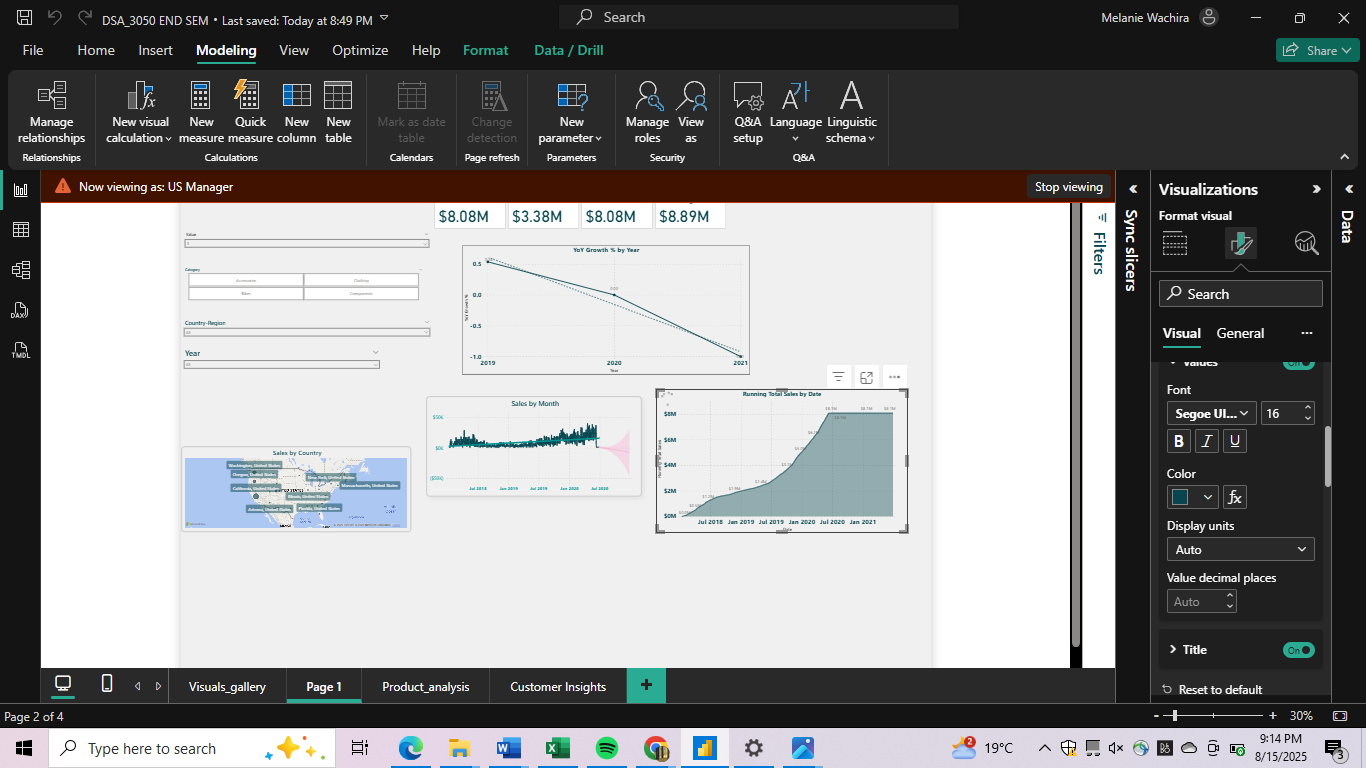

The page's visual inventory and layout, read from the dashboard file:
{"tool":"powerbi","page":{"name":"Sales_Overview","canvas":[2500,1700],"ordinal":1},"visuals":[{"type":"lineChart","title":"Sales by Month","fields":{"Y":["Sum(Sales_data.Sales Amount)"],"Category":["Date_data.Date"]},"box":[256,1184,800,512],"z":0},{"type":"map","title":"Sales by Country","fields":{"Category":["Geography.Country-Region Hierarchy.Country-Region","Geography.Country-Region Hierarchy.State-Province","Geography.Country-Region Hierarchy.City"],"Size":["Sum(Sales_data.Profit)"]},"box":[32,704,768,416],"z":1000},{"type":"slicer","fields":{"Values":["Product_data.Category"]},"box":[0,288,816,120],"z":3000},{"type":"slicer","fields":{"Values":["Geography.Country-Region"]},"box":[0,448,832,64],"z":4000},{"type":"actionButton","box":[0,0,100,40],"z":5000},{"type":"cardVisual","fields":{"Data":["Sales_data.Total Sales","Sales_data.Total Profit","Sum(Sales_data.Unit Price)","Sales_data.Sales Target"]},"box":[1056,96,960,160],"z":6000},{"type":"lineChart","fields":{"Category":["Date_data.Year"],"Y":["Customer_data.YoY Growth %"]},"box":[1376,416,960,416],"z":9001},{"type":"areaChart","fields":{"Category":["Date_data.Date"],"Y":["Sales_data.Running Total Sales"]},"box":[1472,992,960,544],"z":9002},{"type":"slicer","fields":{"Values":["TopN_Products.Value"]},"box":[0,168,840,96],"z":9003},{"type":"slicer","fields":{"Values":["Date_data.Year"]},"box":[0,544,832,128],"z":9004},{"type":"textbox","box":[576,0,992,96],"z":9005}]}

Visuals, with their boxes on the page's 2500x1700 design canvas (x1, y1, x2, y2). These are canvas units, not pixel positions in the 1366x768 screenshot, which may show the page scaled, cropped or inside an application window:
"Sales by Month" lineChart: bbox=(256, 1184, 1056, 1696)
"Sales by Country" map: bbox=(32, 704, 800, 1120)
slicer - Product_data.Category: bbox=(0, 288, 816, 408)
slicer - Geography.Country-Region: bbox=(0, 448, 832, 512)
actionButton: bbox=(0, 0, 100, 40)
cardVisual - Sales_data.Total Sales x Sales_data.Total Profit: bbox=(1056, 96, 2016, 256)
lineChart - Date_data.Year x Customer_data.YoY Growth %: bbox=(1376, 416, 2336, 832)
areaChart - Date_data.Date x Sales_data.Running Total Sales: bbox=(1472, 992, 2432, 1536)
slicer - TopN_Products.Value: bbox=(0, 168, 840, 264)
slicer - Date_data.Year: bbox=(0, 544, 832, 672)
textbox: bbox=(576, 0, 1568, 96)
